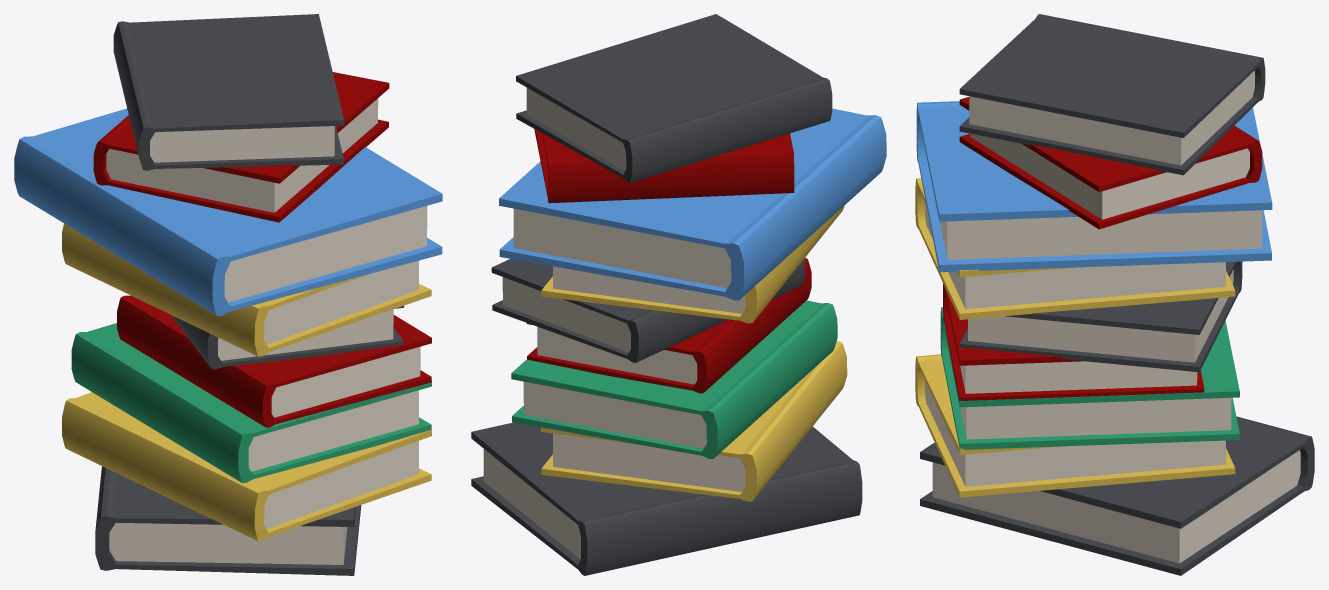
Rendered from BookStack1.fbx.
The picture shows the model from 3 angles, left to right: view 1: azimuth 30°, elevation 25°; view 2: azimuth 150°, elevation 25°; view 3: azimuth 270°, elevation 25°; orthographic projection. The views are drawn at different scales.
Parts seen in each view (by area): view 1: pCube303; view 2: pCube303; view 3: pCube303.
Boxes of the visible parts, x1,y1,x2,y2 form: pCube303: [14, 14, 442, 575]; pCube303: [471, 14, 886, 575]; pCube303: [915, 14, 1314, 575].
Bounding box in the file's own units: 0.6816 × 0.8447 × 0.7236.
